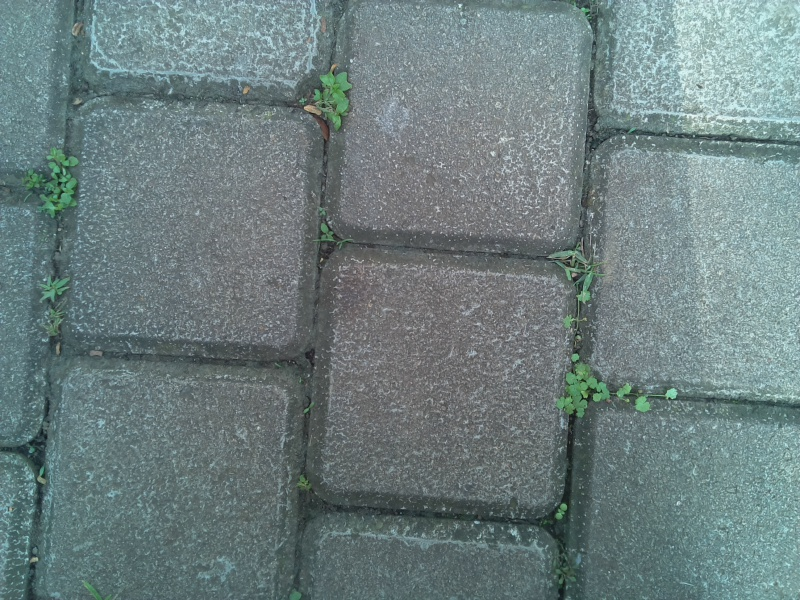Weed: (22, 140, 84, 215), (559, 351, 616, 425), (545, 241, 599, 306), (312, 66, 357, 132), (307, 204, 352, 252), (549, 547, 586, 598), (24, 435, 55, 475), (34, 272, 70, 306), (34, 306, 71, 339), (290, 468, 318, 501), (550, 499, 571, 525)
